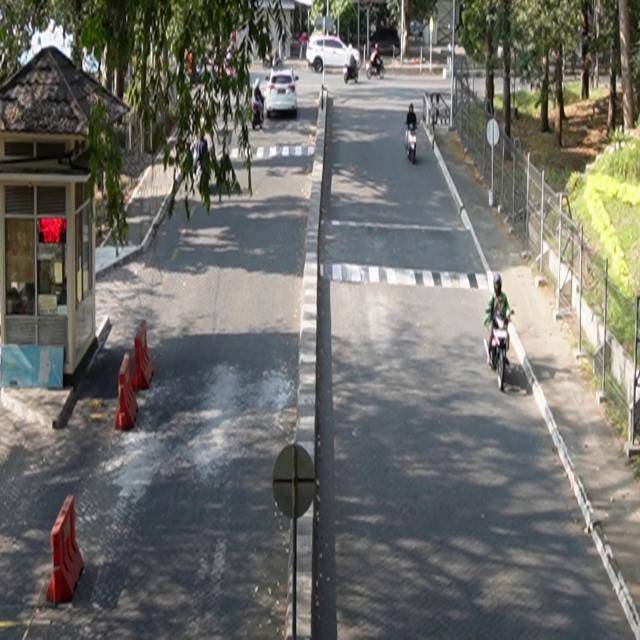car: (307, 36, 362, 74), (265, 68, 300, 119)
